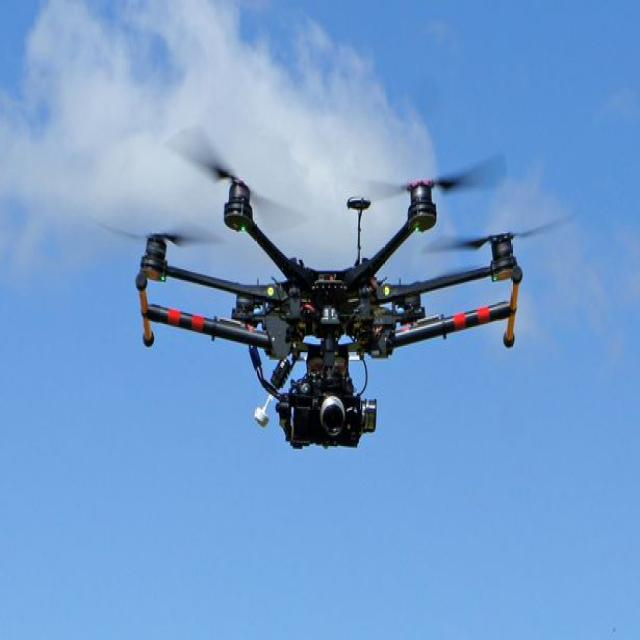drone: (89, 126, 579, 452)
